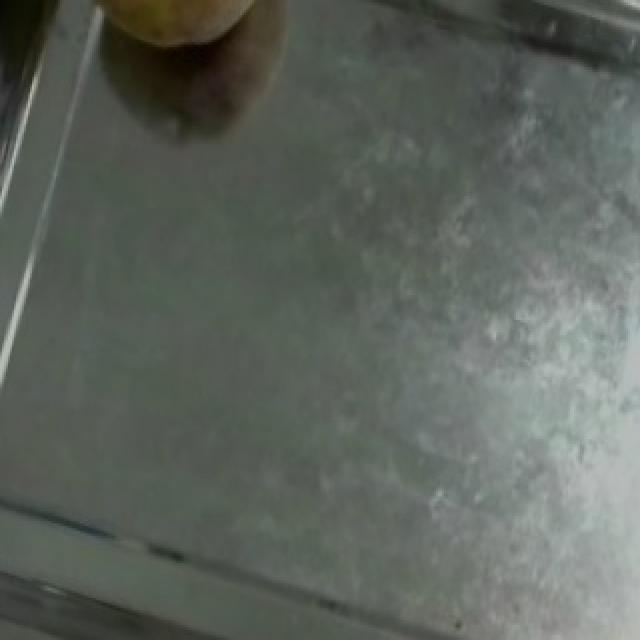Fruit: (68, 0, 304, 82)
